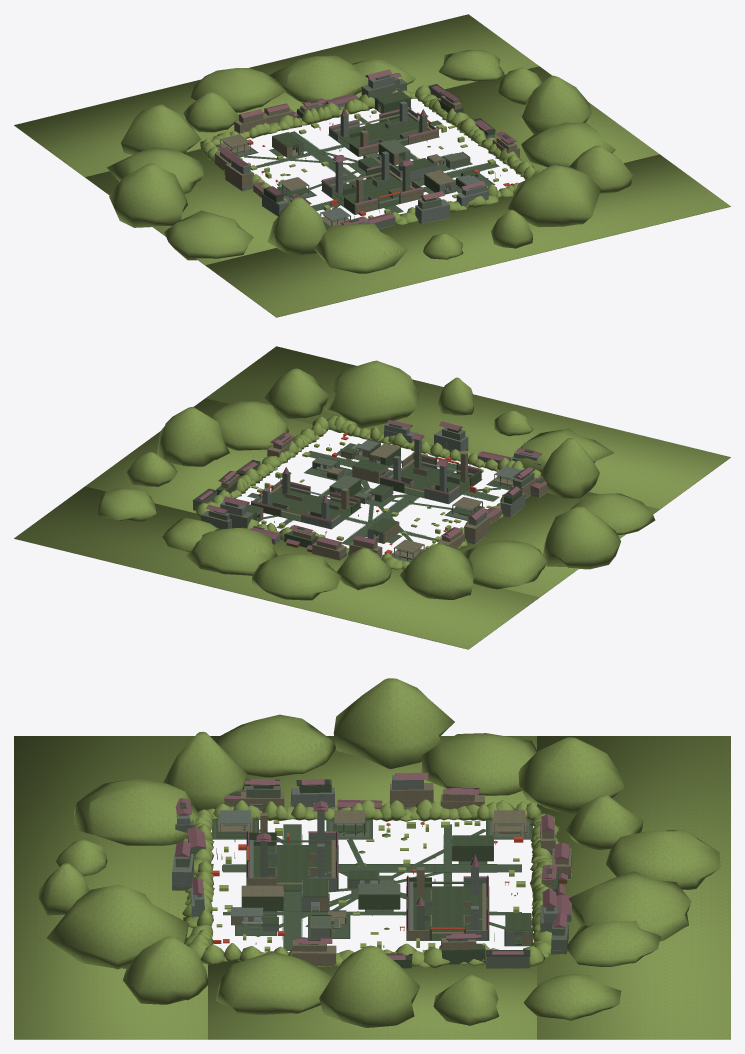
Rendered from chikurin-lod1.glb.
The picture shows the model from 3 angles, top to bottom: view 1: azimuth 30°, elevation 25°; view 2: azimuth 150°, elevation 25°; view 3: azimuth 270°, elevation 25°; orthographic projection. The views are drawn at different scales.
Parts seen in each view (by area): view 1: HB_chikurin_LOD1_terrain, HB_chikurin_LOD1_wall_warm, HB_chikurin_LOD1_wall_cool, HB_chikurin_LOD1_road, HB_chikurin_LOD1_wall_weathered, HB_chikurin_LOD1_wall, HB_chikurin_LOD1_roof, HB_chikurin_LOD1_LANDMARK_1_wall_weathered, HB_chikurin_LOD1_LANDMARK_0_wall_weathered, HB_chikurin_LOD1_LANDMARK_0_wall_warm, HB_chikurin_LOD1_LANDMARK_0_wall_cool, HB_chikurin_LOD1_LANDMARK_1_wall_warm (+3 smaller); view 2: HB_chikurin_LOD1_terrain, HB_chikurin_LOD1_wall_warm, HB_chikurin_LOD1_road, HB_chikurin_LOD1_wall_cool, HB_chikurin_LOD1_wall, HB_chikurin_LOD1_wall_weathered, HB_chikurin_LOD1_roof, HB_chikurin_LOD1_LANDMARK_1_wall_weathered, HB_chikurin_LOD1_LANDMARK_0_wall_weathered, HB_chikurin_LOD1_LANDMARK_0_wall_cool, HB_chikurin_LOD1_wall_alt, HB_chikurin_LOD1_LANDMARK_0_wall_warm (+3 smaller); view 3: HB_chikurin_LOD1_terrain, HB_chikurin_LOD1_wall_warm, HB_chikurin_LOD1_road, HB_chikurin_LOD1_wall_weathered, HB_chikurin_LOD1_roof, HB_chikurin_LOD1_wall_cool, HB_chikurin_LOD1_wall, HB_chikurin_LOD1_LANDMARK_1_wall_weathered, HB_chikurin_LOD1_LANDMARK_0_wall_weathered, HB_chikurin_LOD1_wall_alt, HB_chikurin_LOD1_obstacle, HB_chikurin_LOD1_LANDMARK_0_wall_cool (+4 smaller).
Part boxes in pixels (x1,y1,x2,y2): HB_chikurin_LOD1_terrain: [14, 14, 730, 317]; HB_chikurin_LOD1_wall_warm: [215, 96, 519, 226]; HB_chikurin_LOD1_wall_cool: [231, 74, 495, 224]; HB_chikurin_LOD1_road: [217, 108, 499, 229]; HB_chikurin_LOD1_wall_weathered: [232, 91, 513, 228]; HB_chikurin_LOD1_wall: [218, 75, 500, 229]; HB_chikurin_LOD1_roof: [217, 69, 516, 224]; HB_chikurin_LOD1_LANDMARK_1_wall_weathered: [338, 109, 428, 156]; HB_chikurin_LOD1_LANDMARK_0_wall_weathered: [333, 165, 411, 214]; HB_chikurin_LOD1_LANDMARK_0_wall_warm: [330, 170, 423, 214]; HB_chikurin_LOD1_LANDMARK_0_wall_cool: [322, 151, 401, 203]; HB_chikurin_LOD1_LANDMARK_1_wall_warm: [334, 112, 438, 156]; HB_chikurin_LOD1_terrain: [14, 346, 730, 649]; HB_chikurin_LOD1_wall_warm: [221, 435, 548, 560]; HB_chikurin_LOD1_road: [247, 443, 509, 555]; HB_chikurin_LOD1_wall_cool: [220, 423, 538, 558]; HB_chikurin_LOD1_wall: [193, 427, 540, 562]; HB_chikurin_LOD1_wall_weathered: [216, 428, 529, 560]; HB_chikurin_LOD1_roof: [197, 419, 546, 549]; HB_chikurin_LOD1_LANDMARK_1_wall_weathered: [251, 488, 360, 521]; HB_chikurin_LOD1_LANDMARK_0_wall_weathered: [380, 463, 481, 497]; HB_chikurin_LOD1_LANDMARK_0_wall_cool: [381, 455, 473, 503]; HB_chikurin_LOD1_wall_alt: [259, 435, 545, 554]; HB_chikurin_LOD1_LANDMARK_0_wall_warm: [388, 451, 479, 492]; HB_chikurin_LOD1_terrain: [14, 678, 730, 1039]; HB_chikurin_LOD1_wall_warm: [179, 783, 571, 966]; HB_chikurin_LOD1_road: [212, 819, 532, 950]; HB_chikurin_LOD1_wall_weathered: [216, 779, 558, 968]; HB_chikurin_LOD1_roof: [175, 772, 571, 959]; HB_chikurin_LOD1_wall_cool: [172, 775, 571, 967]; HB_chikurin_LOD1_wall: [172, 785, 570, 968]; HB_chikurin_LOD1_LANDMARK_1_wall_weathered: [408, 877, 488, 939]; HB_chikurin_LOD1_LANDMARK_0_wall_weathered: [249, 832, 337, 890]; HB_chikurin_LOD1_wall_alt: [180, 791, 567, 947]; HB_chikurin_LOD1_obstacle: [212, 820, 525, 952]; HB_chikurin_LOD1_LANDMARK_0_wall_cool: [249, 811, 337, 891].
Size of the model in its own units: 659 by 63.78 by 628.
14 materials, 13 textured.
